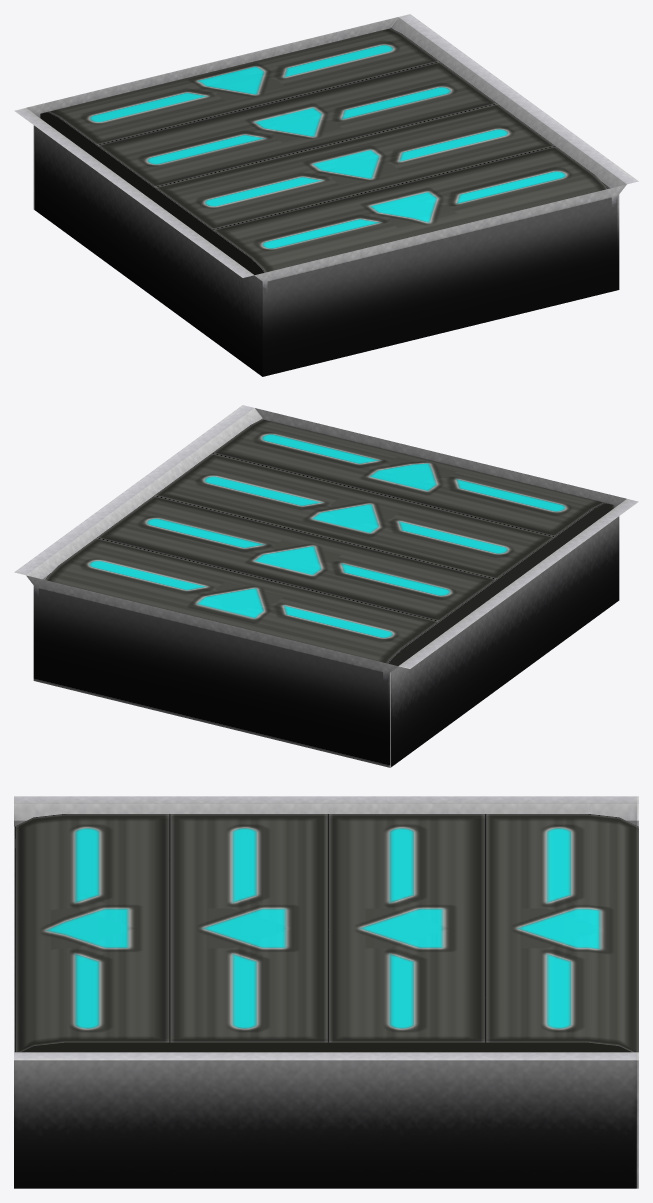
Rendered from conveyor.FBX.
The picture shows the model from 3 angles, top to bottom: view 1: azimuth 30°, elevation 25°; view 2: azimuth 150°, elevation 25°; view 3: azimuth 270°, elevation 25°; orthographic projection. The views are drawn at different scales.
Visible parts, largest first — view 1: conveyor_move, conveyor; view 2: conveyor_move, conveyor; view 3: conveyor_move, conveyor.
Boxes of the visible parts, box(x1,y1,x2,y2) form: conveyor_move: box(45, 28, 607, 272); conveyor: box(14, 14, 638, 376); conveyor_move: box(45, 419, 607, 663); conveyor: box(14, 405, 638, 767); conveyor_move: box(14, 814, 638, 1052); conveyor: box(14, 796, 638, 1188).
Size of the model in its own units: 50 by 12.5 by 50.
1 material, 1 textured.
